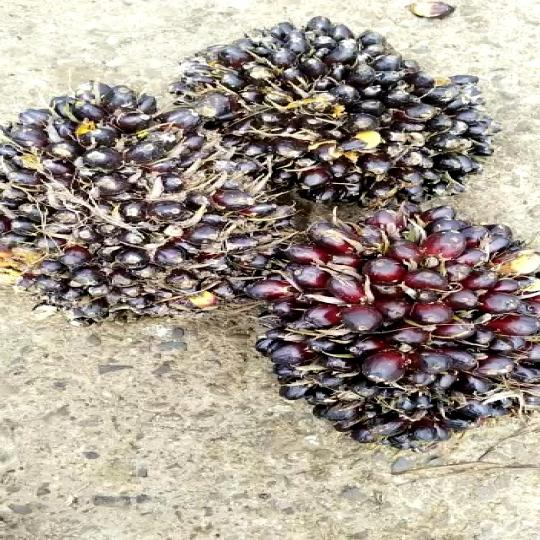mentah: (228, 203, 540, 441), (0, 77, 255, 354), (201, 18, 531, 202)
